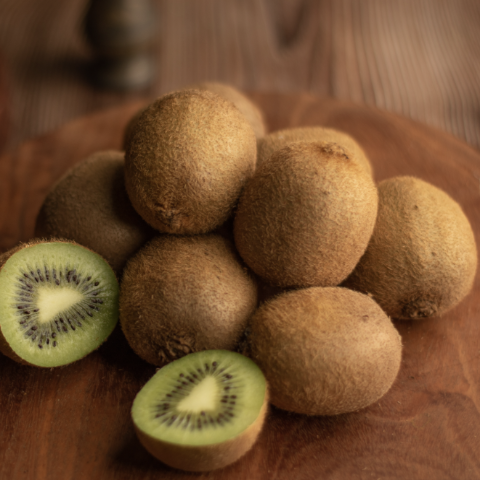kiwi: (223, 285, 418, 412), (216, 136, 383, 283), (100, 230, 261, 373), (110, 81, 259, 229), (348, 174, 479, 335)
